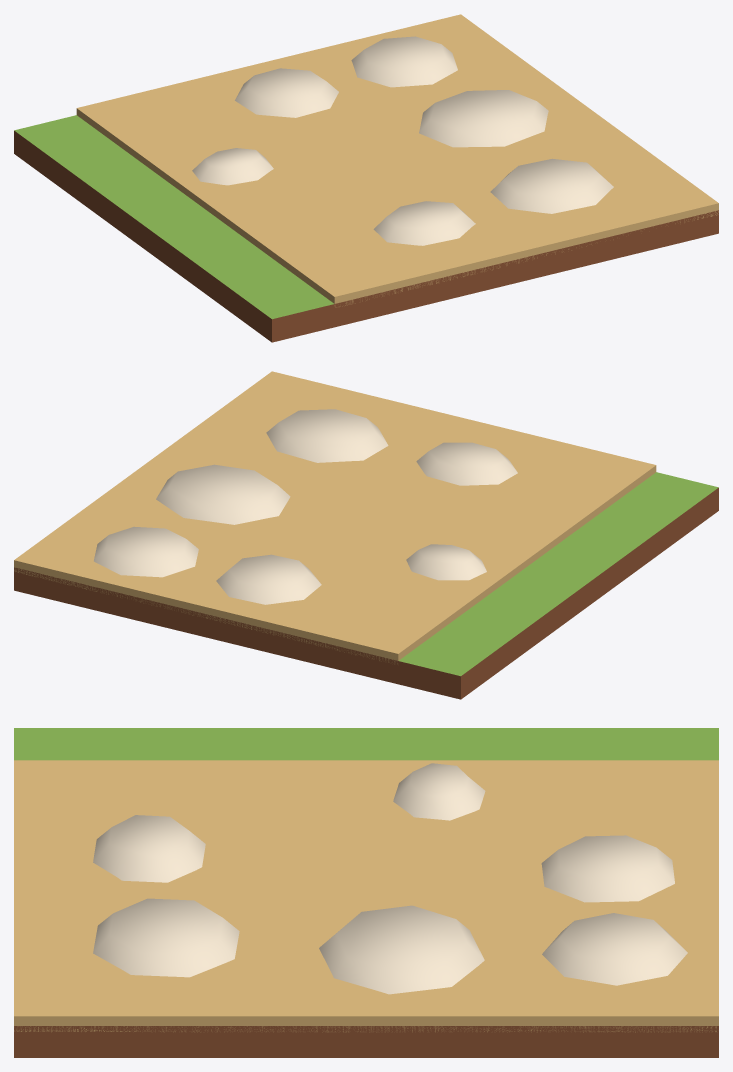
Rendered from path_tile_t.glb.
3 renders of one model, top to bottom at view 1: azimuth 30°, elevation 25°; view 2: azimuth 150°, elevation 25°; view 3: azimuth 270°, elevation 25°, orthographic. The views are drawn at different scales.
Visible parts, largest first — view 1: path_tile_t; view 2: path_tile_t; view 3: path_tile_t.
Boxes of the visible parts, x1,y1,x2,y2 form: path_tile_t: [14, 14, 718, 342]; path_tile_t: [14, 371, 718, 699]; path_tile_t: [14, 728, 718, 1057].
Bounding box in the file's own units: 1 × 0.09 × 1.
1 material, 1 textured.
